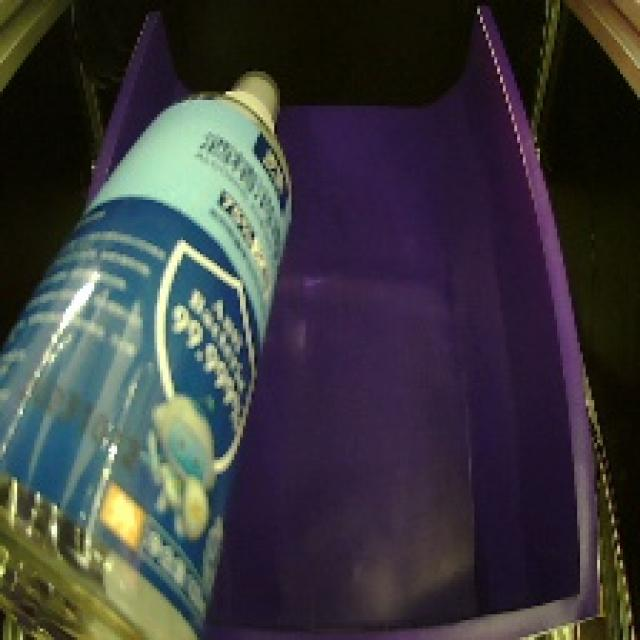plastic: (0, 53, 301, 640)
